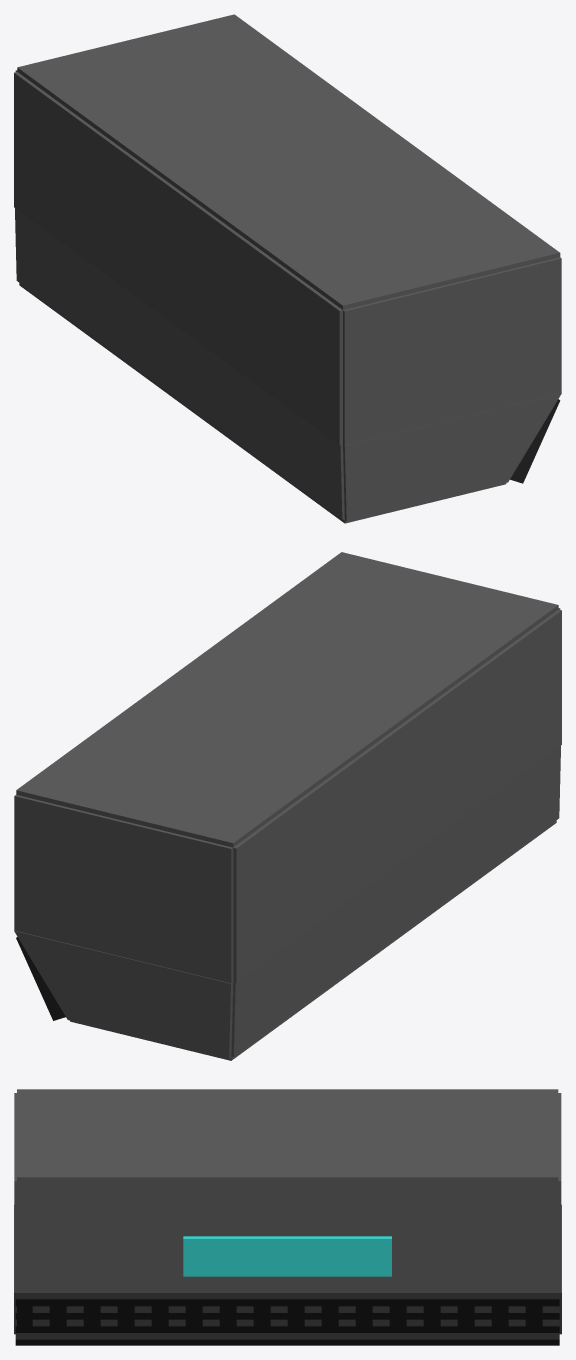
Rendered from ggj2019ac.fbx.
3 views of the same model, one above another, from view 1: azimuth 30°, elevation 25°; view 2: azimuth 150°, elevation 25°; view 3: azimuth 270°, elevation 25° (orthographic). The views are drawn at different scales.
Parts seen in each view (by area): view 1: Cube; view 2: Cube; view 3: Cube.
Part boxes in pixels (x1=…): Cube: x1=14, y1=14, x2=561, y2=523; Cube: x1=14, y1=552, x2=561, y2=1060; Cube: x1=14, y1=1089, x2=561, y2=1345.
Bounding box in the file's own units: 59.76 × 55.57 × 150.
